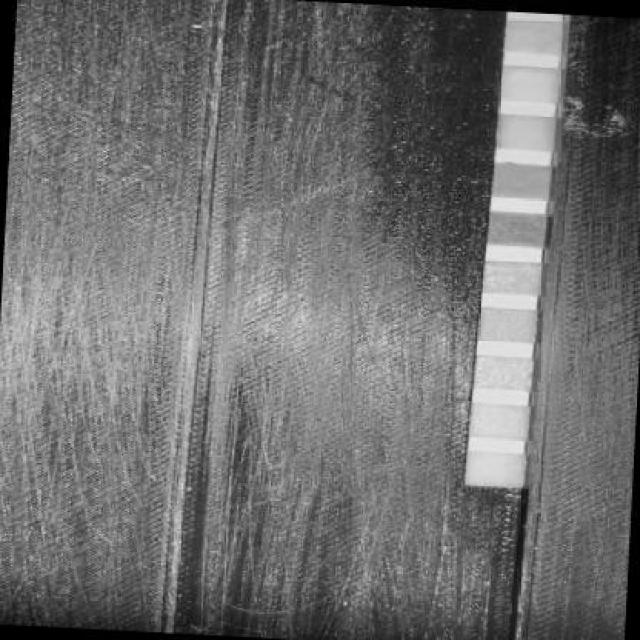Bilirubin: (502, 70, 560, 101)
Blood: (490, 215, 544, 245)
Glucose: (507, 24, 562, 52)
Ketone: (498, 117, 554, 149)
Leukocytes: (468, 454, 526, 486)
Nitrite: (472, 407, 529, 436)
Protein: (480, 310, 536, 340)
SpGravity: (494, 165, 548, 197)
Urobilinogen: (476, 358, 532, 388)
background: (0, 0, 640, 640)
pH: (486, 263, 540, 294)
strip: (465, 13, 565, 489)
